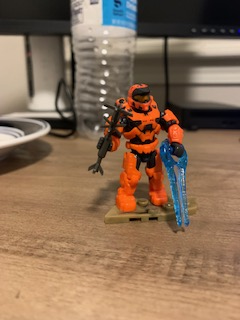spartan: (96, 82, 186, 216)
